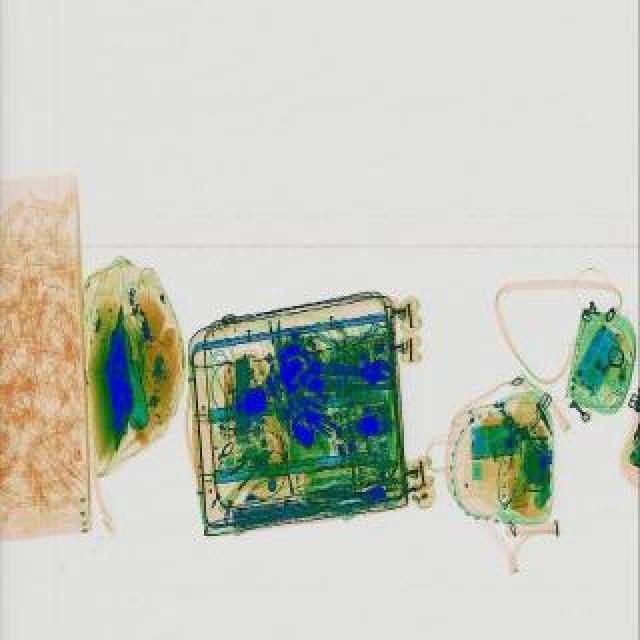scissors: (300, 348, 392, 390), (314, 482, 386, 506)
